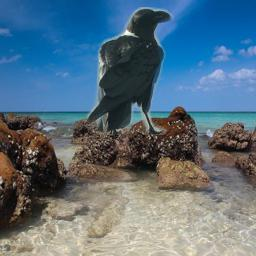Crow: (85, 7, 174, 135)
